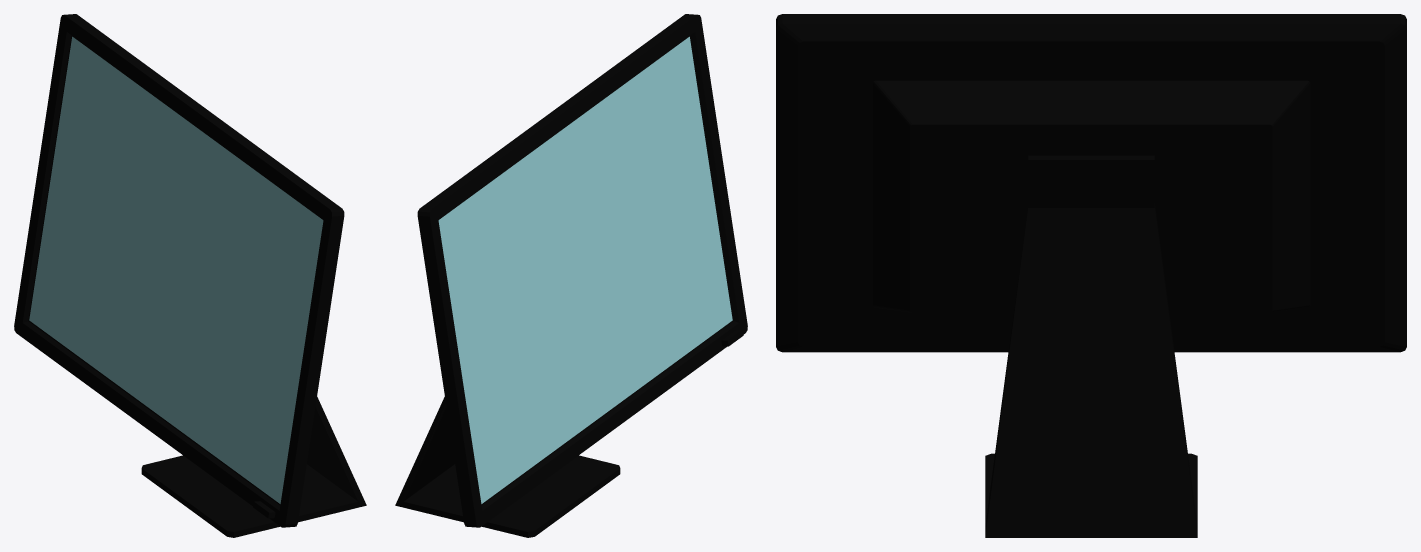
The model's file is 1335 Monitor.obj.
The picture shows the model from 3 angles, left to right: view 1: azimuth 30°, elevation 25°; view 2: azimuth 150°, elevation 25°; view 3: azimuth 270°, elevation 25°; orthographic projection. The views are drawn at different scales.
Parts seen in each view (by area): view 1: Monitor; view 2: Monitor; view 3: Monitor.
Boxes of the visible parts, <box> form: Monitor: <box>14,14,366,537</box>; Monitor: <box>395,14,747,537</box>; Monitor: <box>776,14,1406,537</box>.
Bounding box in the file's own units: 32.59 × 68.26 × 86.03.
1 material, 1 textured.
